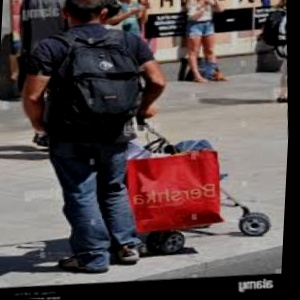bershka: (143, 78, 291, 281)
